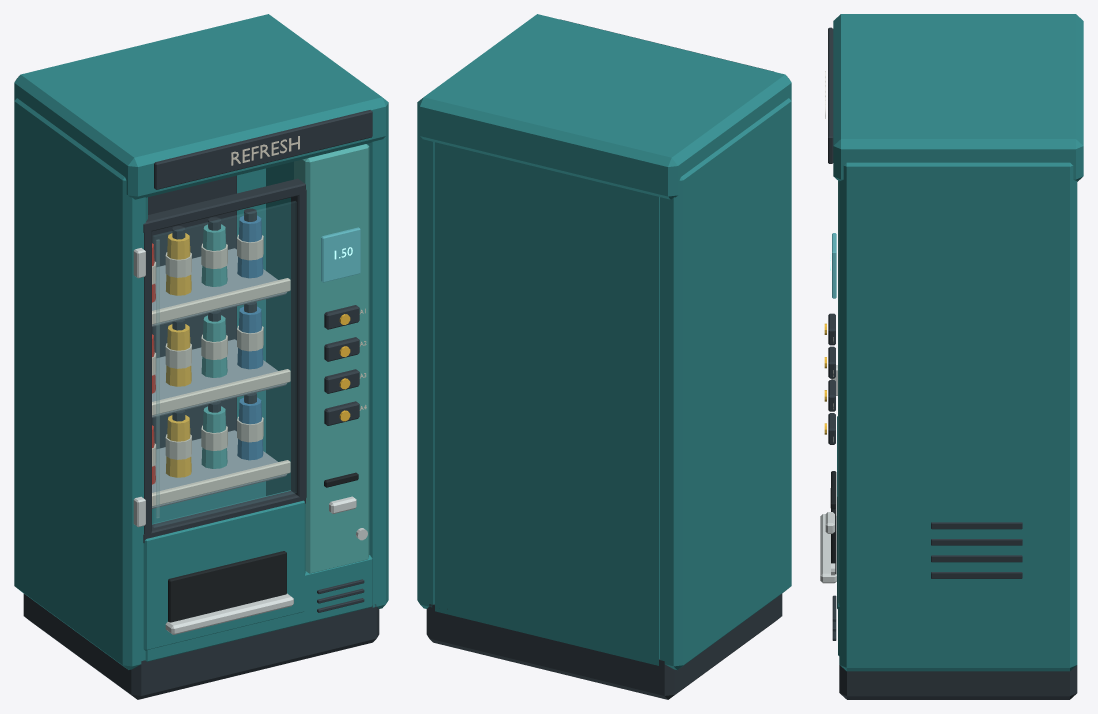
The model's file is Vending_Machine_Detailed.glb.
3 renders of one model, left to right at view 1: azimuth 30°, elevation 25°; view 2: azimuth 150°, elevation 25°; view 3: azimuth 270°, elevation 25°, orthographic. The views are drawn at different scales.
Visible parts, largest first — view 1: Vending_Machine_Detailed; view 2: Vending_Machine_Detailed; view 3: Vending_Machine_Detailed.
Boxes of the visible parts, x1,y1,x2,y2 form: Vending_Machine_Detailed: [14, 14, 388, 699]; Vending_Machine_Detailed: [417, 14, 791, 699]; Vending_Machine_Detailed: [820, 14, 1083, 699].
Size of the model in its own units: 1.05 by 2.04 by 0.8625.
